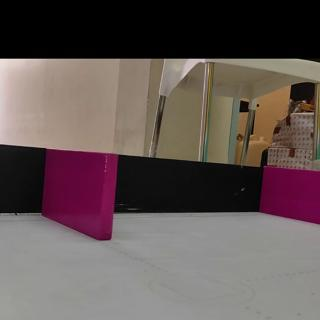xparking: (45, 156, 113, 240), (265, 171, 320, 224)
